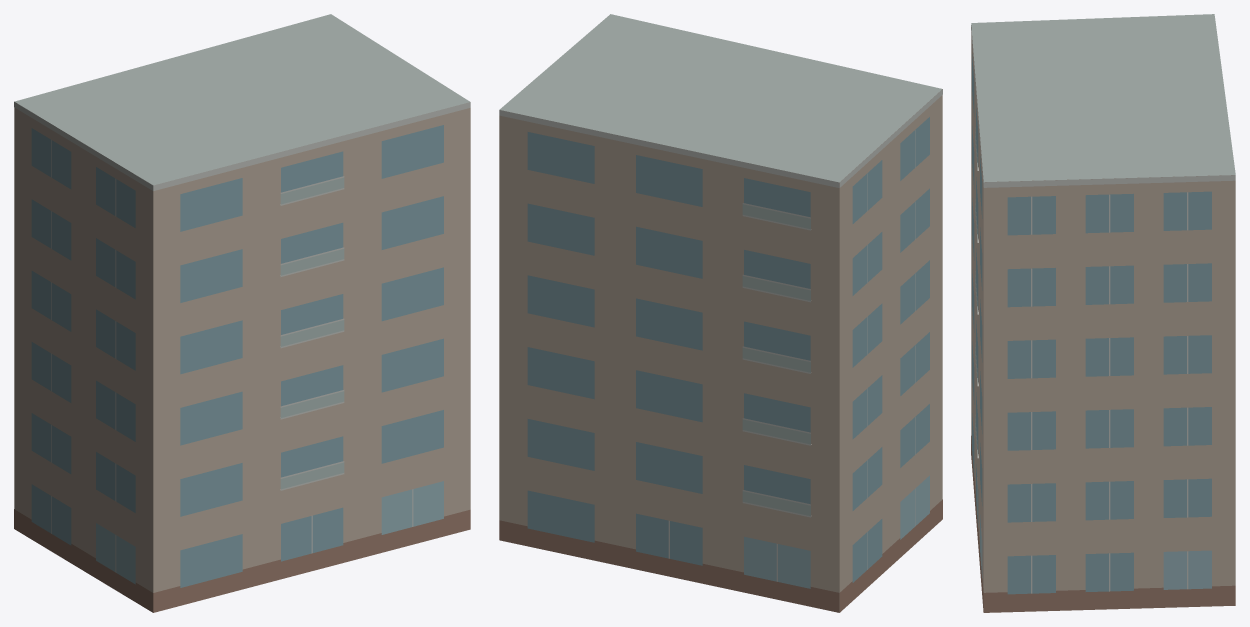
File: survey-upis-32882315.glb
The picture shows the model from 3 angles, left to right: view 1: azimuth 30°, elevation 25°; view 2: azimuth 150°, elevation 25°; view 3: azimuth 270°, elevation 25°; orthographic projection.
Visible parts, largest first — view 1: survey-upis-32882315.tmp; view 2: survey-upis-32882315.tmp; view 3: survey-upis-32882315.tmp.
Boxes of the visible parts, x1,y1,x2,y2 form: survey-upis-32882315.tmp: (14,14,470,612); survey-upis-32882315.tmp: (499,14,942,612); survey-upis-32882315.tmp: (971,14,1235,612).
Size of the model in its own units: 15.33 by 18.3 by 10.2.
